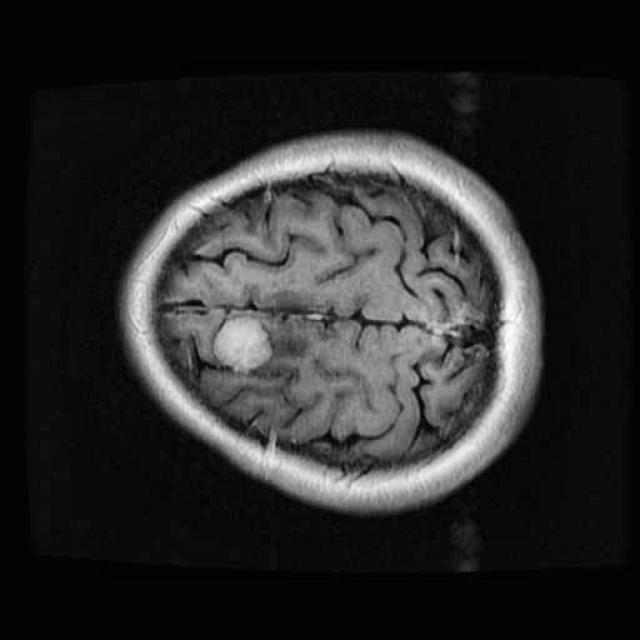Tumor: (211, 306, 276, 381)
